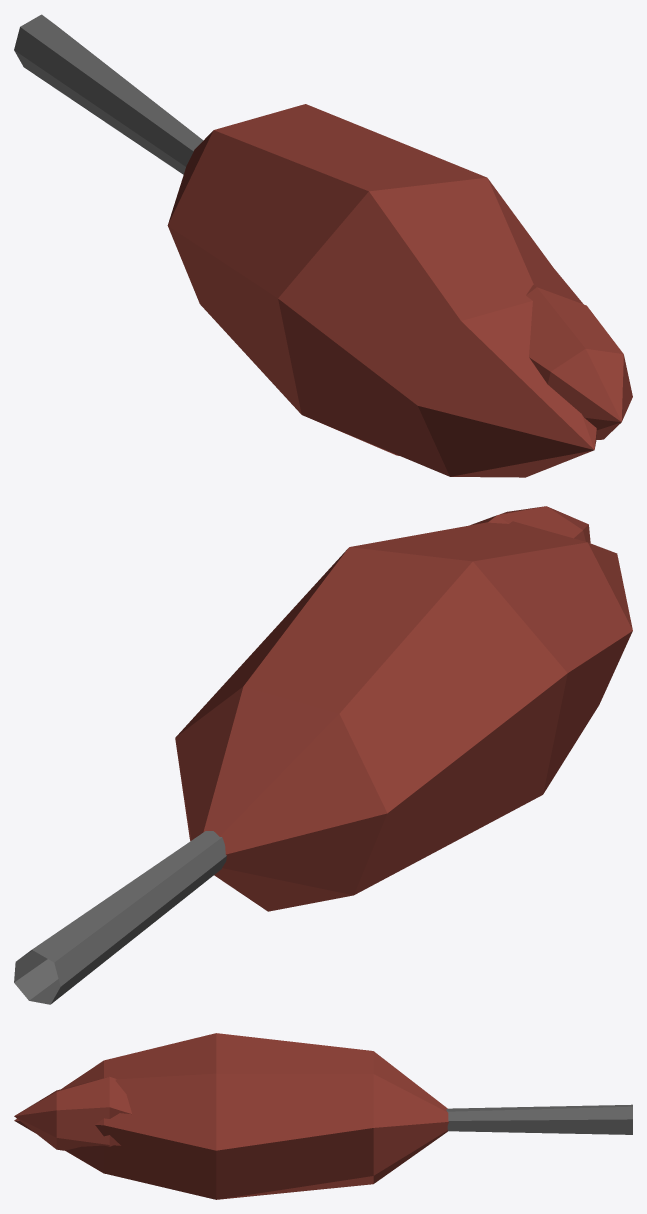
The model's file is growth_1.glb.
The picture shows the model from 3 angles, top to bottom: view 1: azimuth 30°, elevation 25°; view 2: azimuth 150°, elevation 25°; view 3: azimuth 270°, elevation 25°; orthographic projection. The views are drawn at different scales.
Visible parts, largest first — view 1: tree_01_growth_1; view 2: tree_01_growth_1; view 3: tree_01_growth_1.
Part boxes in pixels (<box>): tree_01_growth_1: <box>14,14,632,477</box>; tree_01_growth_1: <box>14,506,632,1004</box>; tree_01_growth_1: <box>14,1033,632,1199</box>.
Bounding box in the file's own units: 6.1 × 5.73 × 21.37.
